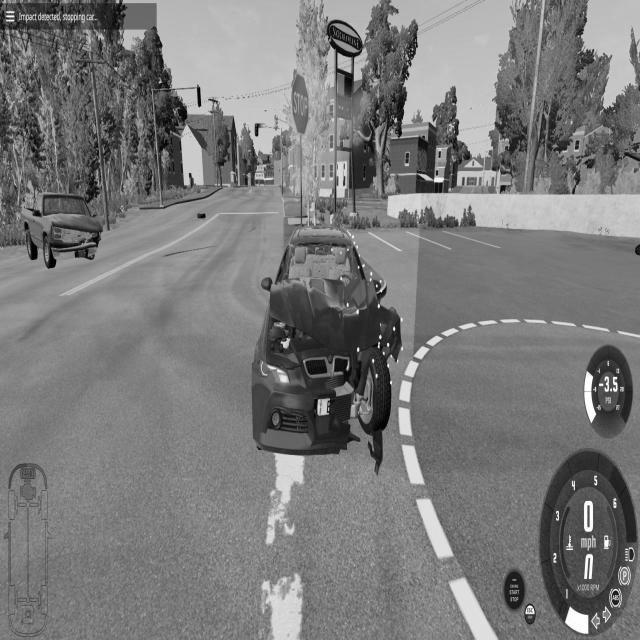accident: (244, 217, 406, 481), (19, 186, 107, 278)
